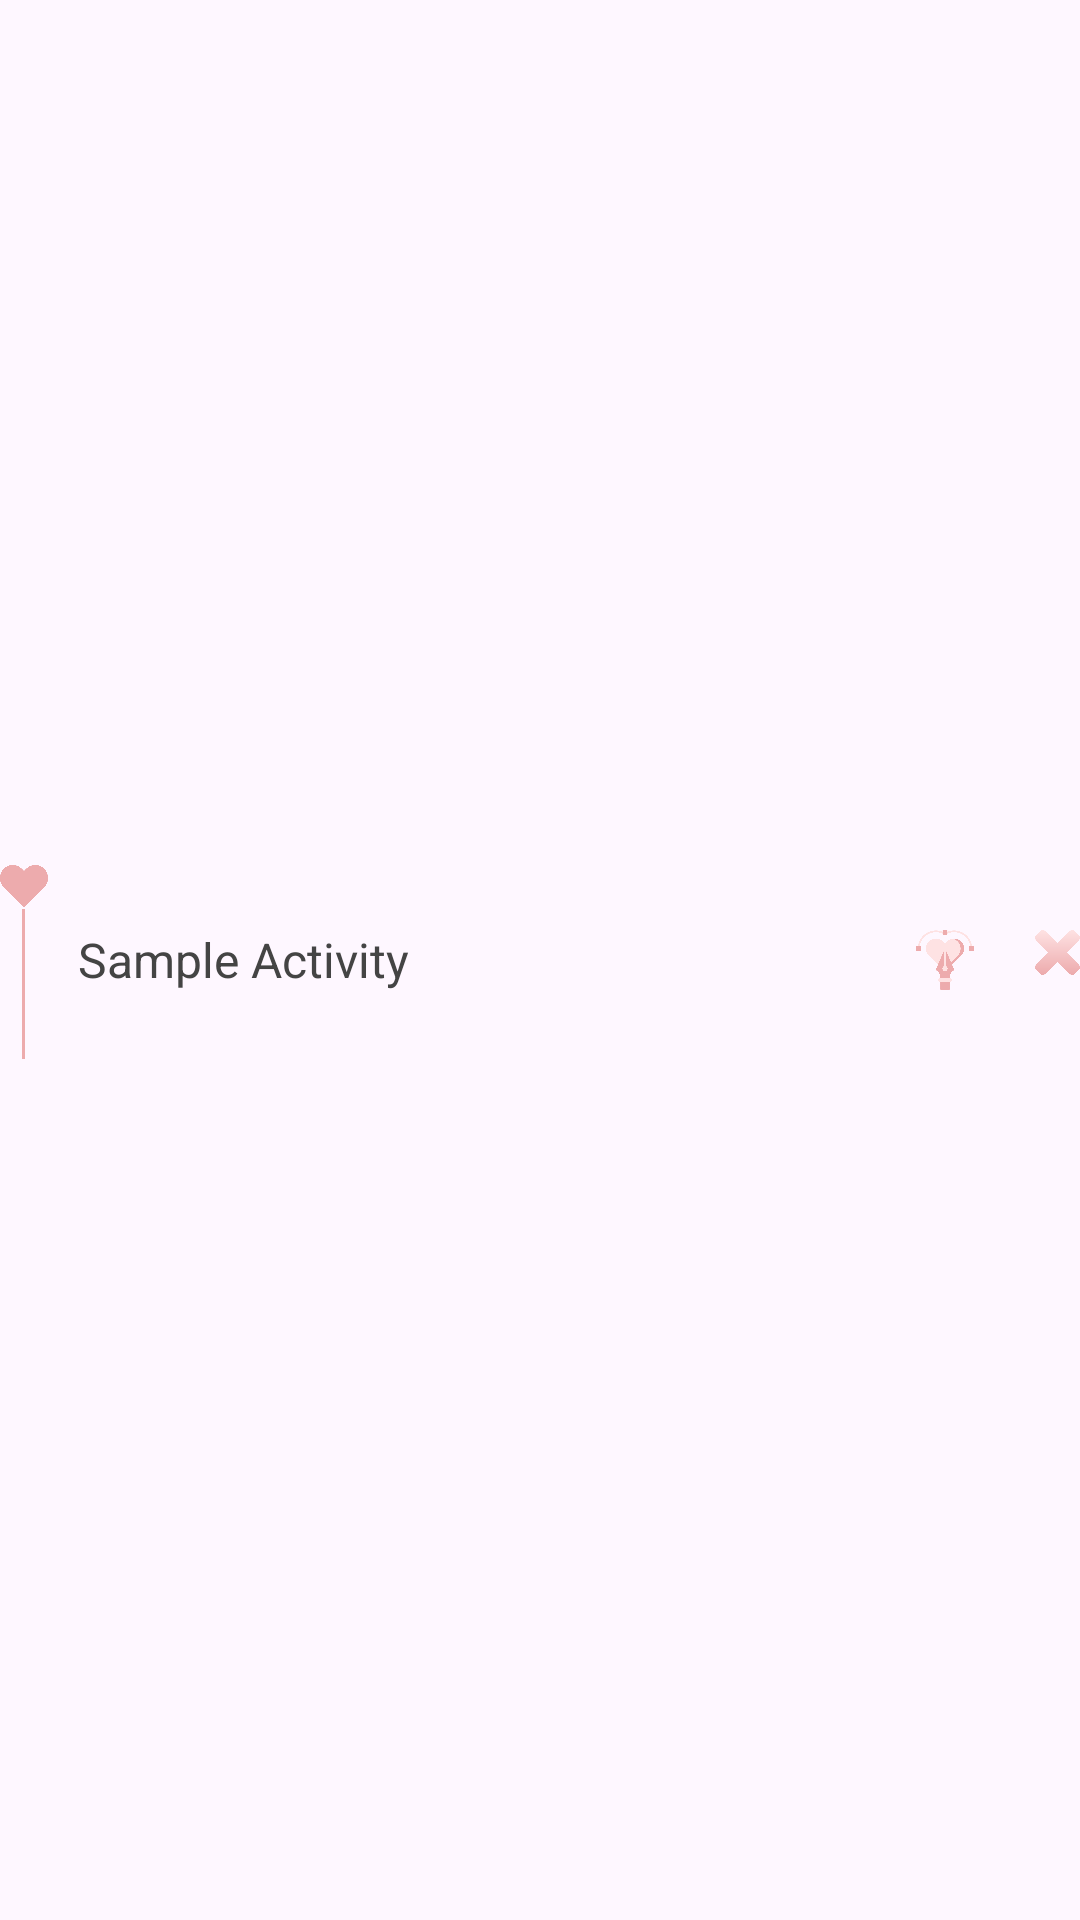

Icons on this 1080 x 1920 Android screen, each with the point to tap as point (x, y):
Delete Task: point (1057, 952)
Edit Task: point (945, 960)
heartdot: point (24, 886)
